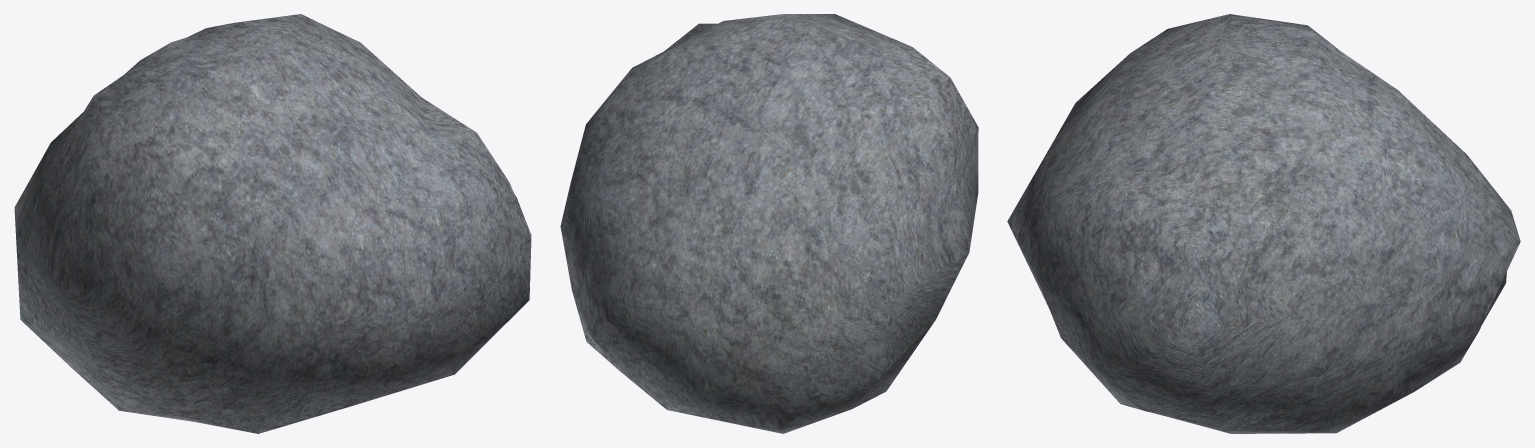
The model's file is StoneItem_01_v01.obj.
3 renders of one model, left to right at view 1: azimuth 30°, elevation 25°; view 2: azimuth 150°, elevation 25°; view 3: azimuth 270°, elevation 25°, orthographic. The views are drawn at different scales.
Parts seen in each view (by area): view 1: rock_item; view 2: rock_item; view 3: rock_item.
Boxes of the visible parts, x1,y1,x2,y2 form: rock_item: (14,14,531,433); rock_item: (560,14,978,433); rock_item: (1007,14,1520,433).
Bounding box in the file's own units: 1.41 × 1.24 × 1.54.
